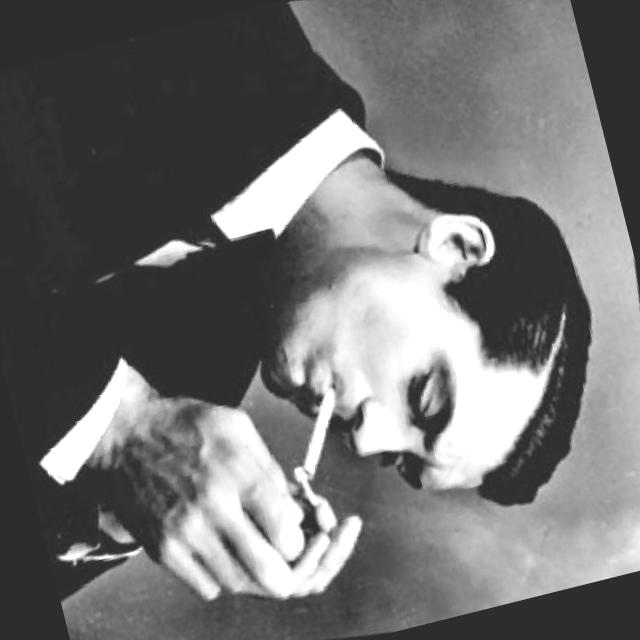smoke: (278, 378, 360, 491)
